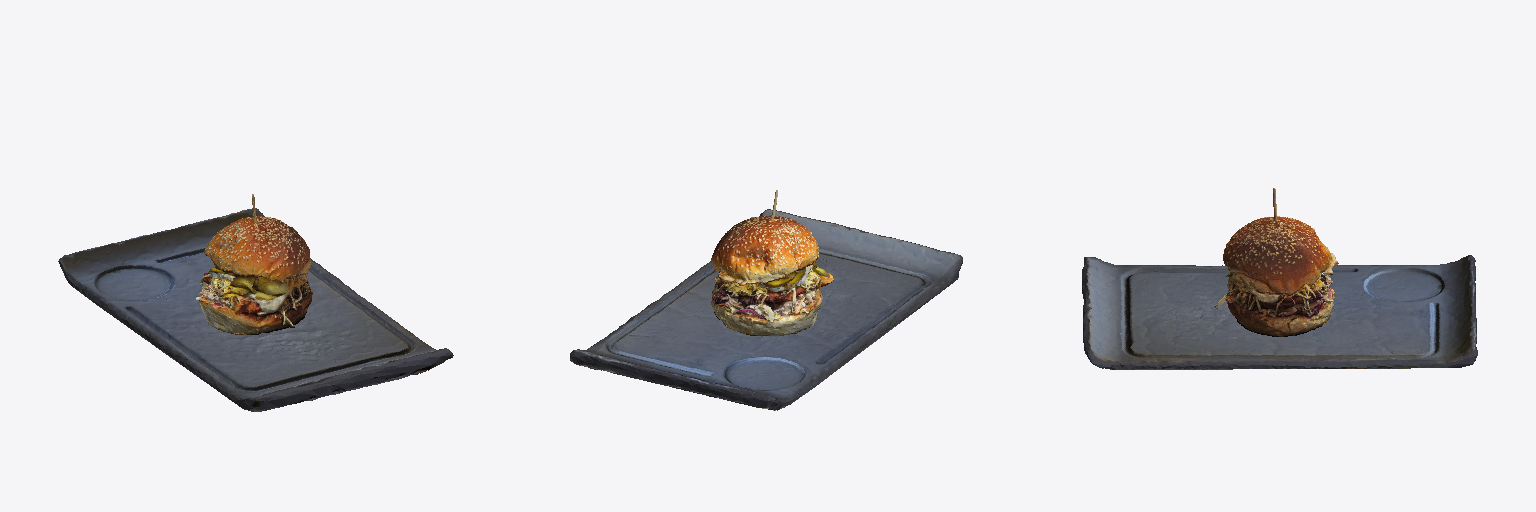
3 renders of one model, left to right at view 1: azimuth 30°, elevation 25°; view 2: azimuth 150°, elevation 25°; view 3: azimuth 270°, elevation 25°, orthographic.
Parts seen in each view (by area): view 1: mmGroup0; view 2: mmGroup0; view 3: mmGroup0.
Part boxes in pixels (x1,y1,x2,y2): mmGroup0: (58, 194, 453, 411); mmGroup0: (570, 190, 962, 410); mmGroup0: (1082, 188, 1477, 369).
Bounding box in the file's own units: 0.1824 × 0.1094 × 0.3015.
Materials: 2 (2 with a texture image).